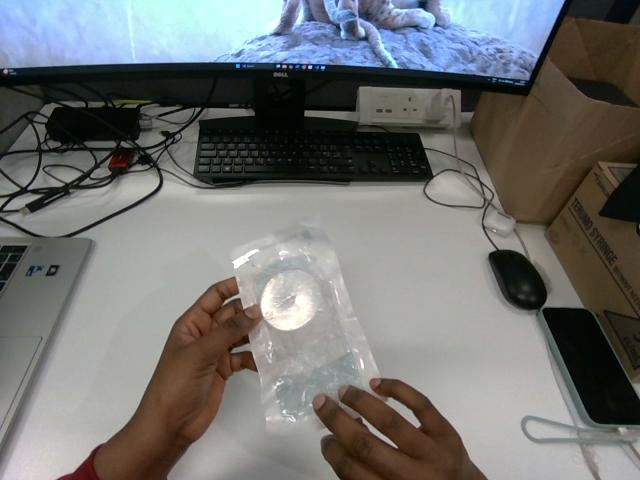gallipot: (232, 222, 377, 432)
